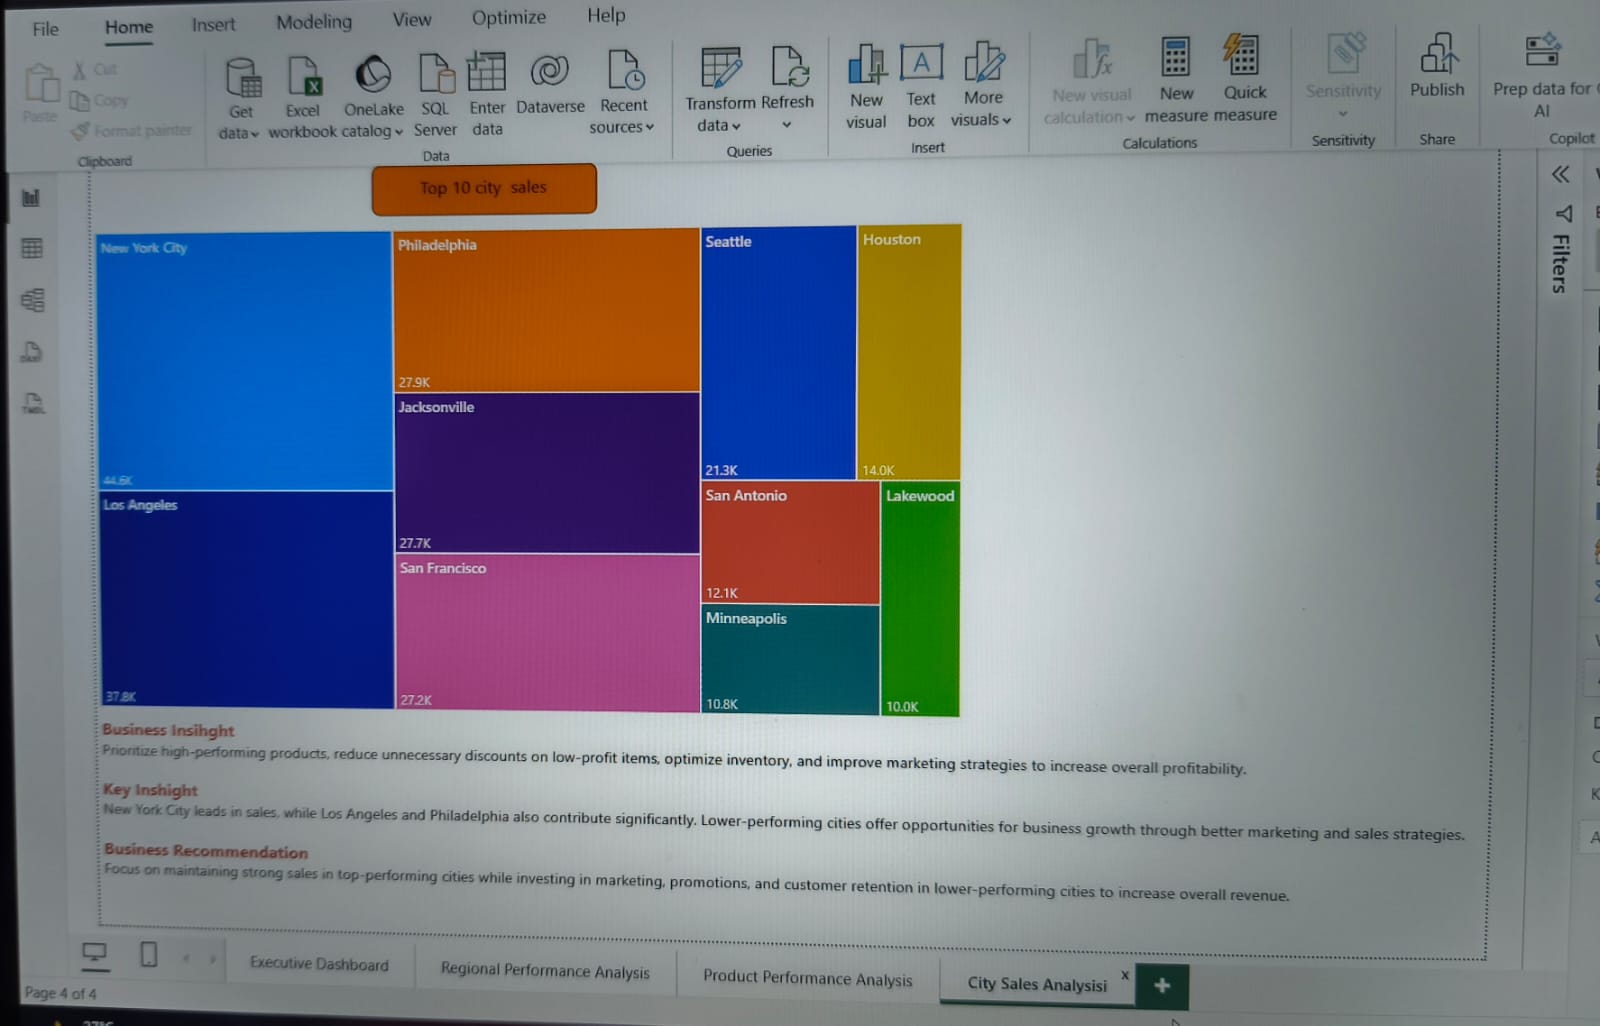

The dashboard page shown, as its layout file describes it:
{"tool":"powerbi","page":{"name":"City Sales Analysisi","canvas":[1280,720],"ordinal":3},"visuals":[{"type":"treemap","fields":{"Values":["Sum(Orders.Sales)"],"Group":["Orders.City"]},"box":[0,55.6,820,458.9],"z":0},{"type":"textbox","box":[26,537,757,183],"z":1000},{"type":"textbox","box":[271.1,0,211.1,46.7],"z":2000},{"type":"textbox","box":[0,514.1,1280,205.9],"z":3000}]}

Visuals, with their boxes on the page's 1280x720 design canvas (x1, y1, x2, y2). These are canvas units, not pixel positions in the 1600x1026 screenshot, which may show the page scaled, cropped or inside an application window:
treemap - Sum(Orders.Sales) x Orders.City: l=0, t=56, r=820, b=514
textbox: l=26, t=537, r=783, b=720
textbox: l=271, t=0, r=482, b=47
textbox: l=0, t=514, r=1280, b=720
